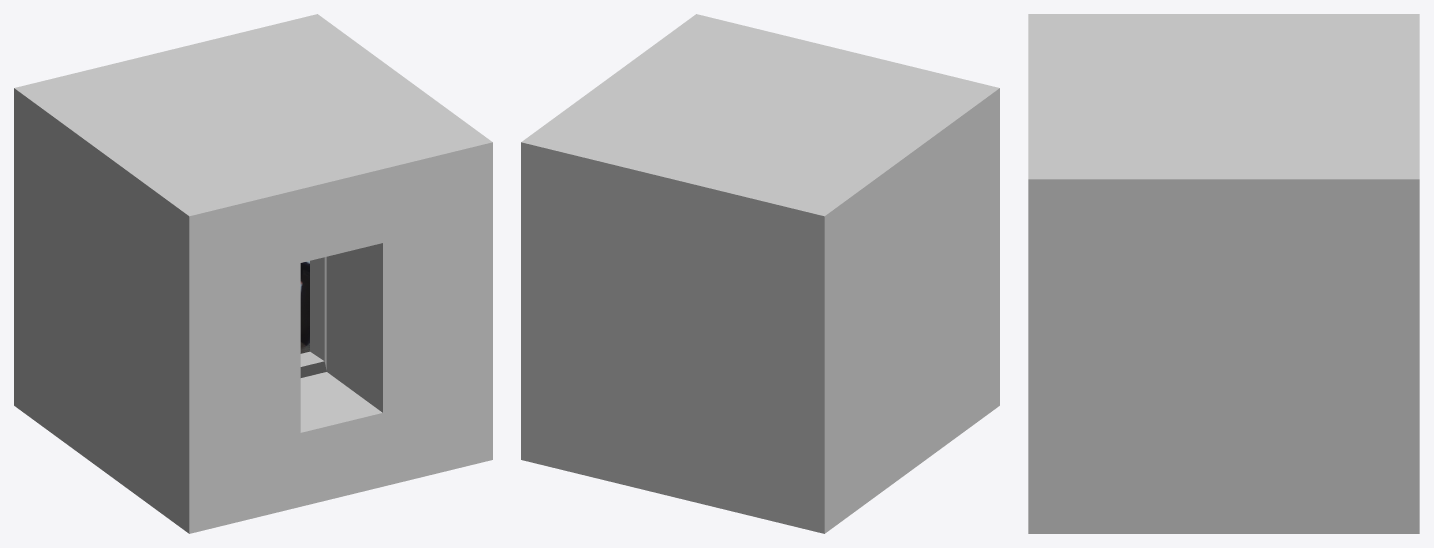
Rendered from 360_sphere_middle_2_2.fbx.
3 renders of one model, left to right at view 1: azimuth 30°, elevation 25°; view 2: azimuth 150°, elevation 25°; view 3: azimuth 270°, elevation 25°, orthographic. The views are drawn at different scales.
Visible parts, largest first — view 1: Cube, Cube.001, Plane; view 2: Cube; view 3: Cube.
Part boxes in pixels (x1,y1,x2,y2): Cube: [14, 14, 492, 533]; Cube.001: [300, 257, 326, 377]; Plane: [300, 261, 309, 353]; Cube: [521, 14, 999, 533]; Cube: [1028, 14, 1419, 533].
Bounding box in the file's own units: 620 × 620 × 620.
Materials: 1 (1 with a texture image).
